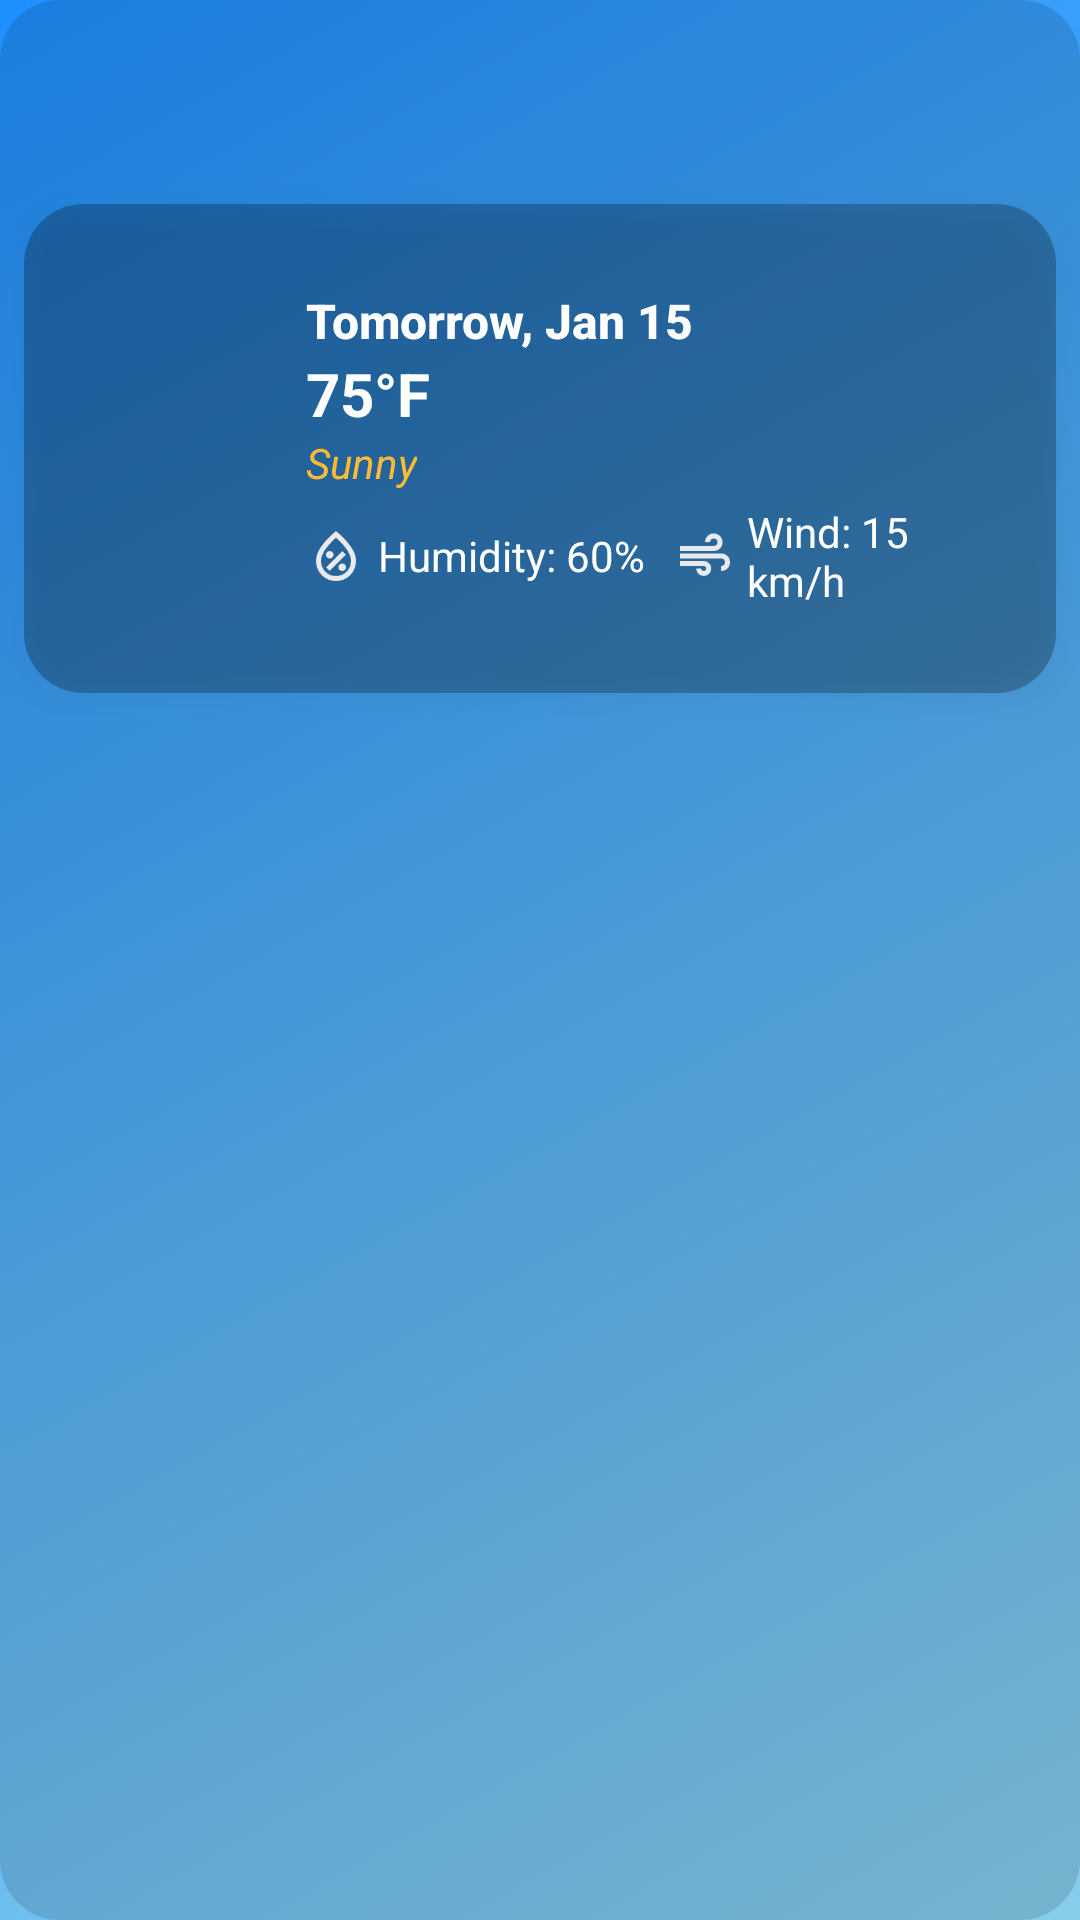

Where to tap for icons on this 1080px x 1920px app screen, as (x=x, y=y):
air eaed: (x=705, y=554)
humidity percentage eaed: (x=336, y=556)
